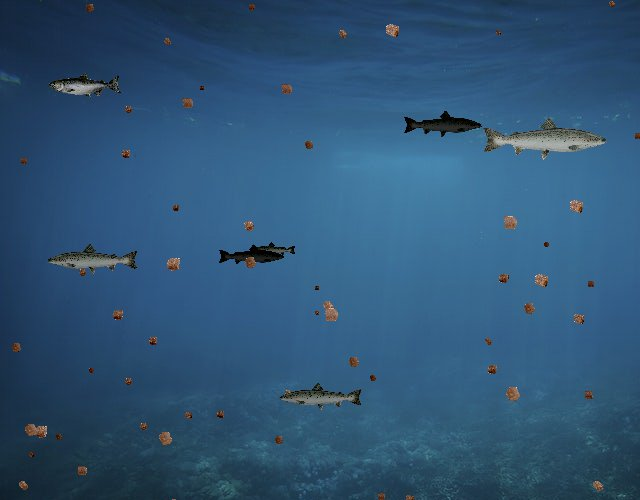Fish: (480, 115, 609, 161), (46, 242, 140, 276), (278, 381, 364, 412), (403, 109, 484, 139), (49, 72, 122, 99), (218, 244, 286, 268), (251, 241, 298, 258)
Pellet: (159, 251, 187, 279), (316, 294, 340, 318), (238, 251, 262, 275), (237, 215, 260, 238), (6, 337, 27, 358), (159, 33, 176, 50), (25, 448, 37, 460)
